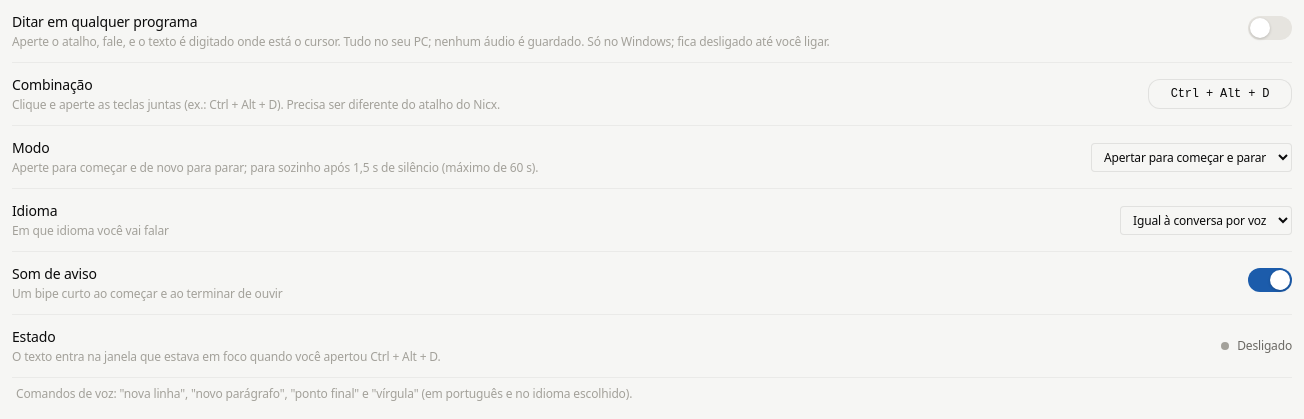
Test: DictationSettings › mostra a configuração e liga o ditado
Expected: the button with test id "dictation-recorder" reads "Ctrl + Alt + D", [1148,79,1292,109]
Expected: the text with test id "dictation-state" reads "Desligado", [1237,337,1292,354]
Click the switch named "Ativar o ditado" at (1270, 28), box [1248,16,1292,40]
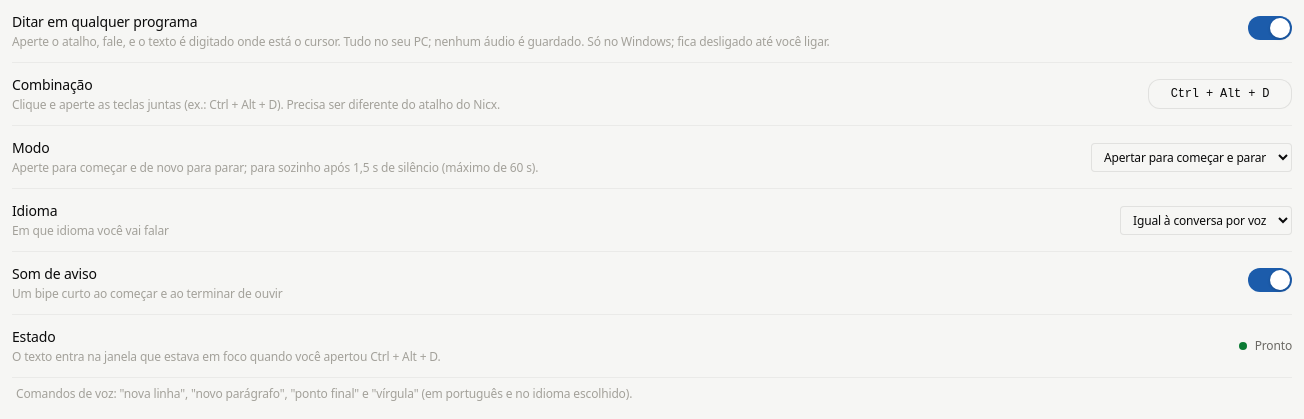
Now the text with test id "dictation-state" reads "Pronto", box [1255,337,1292,354]
